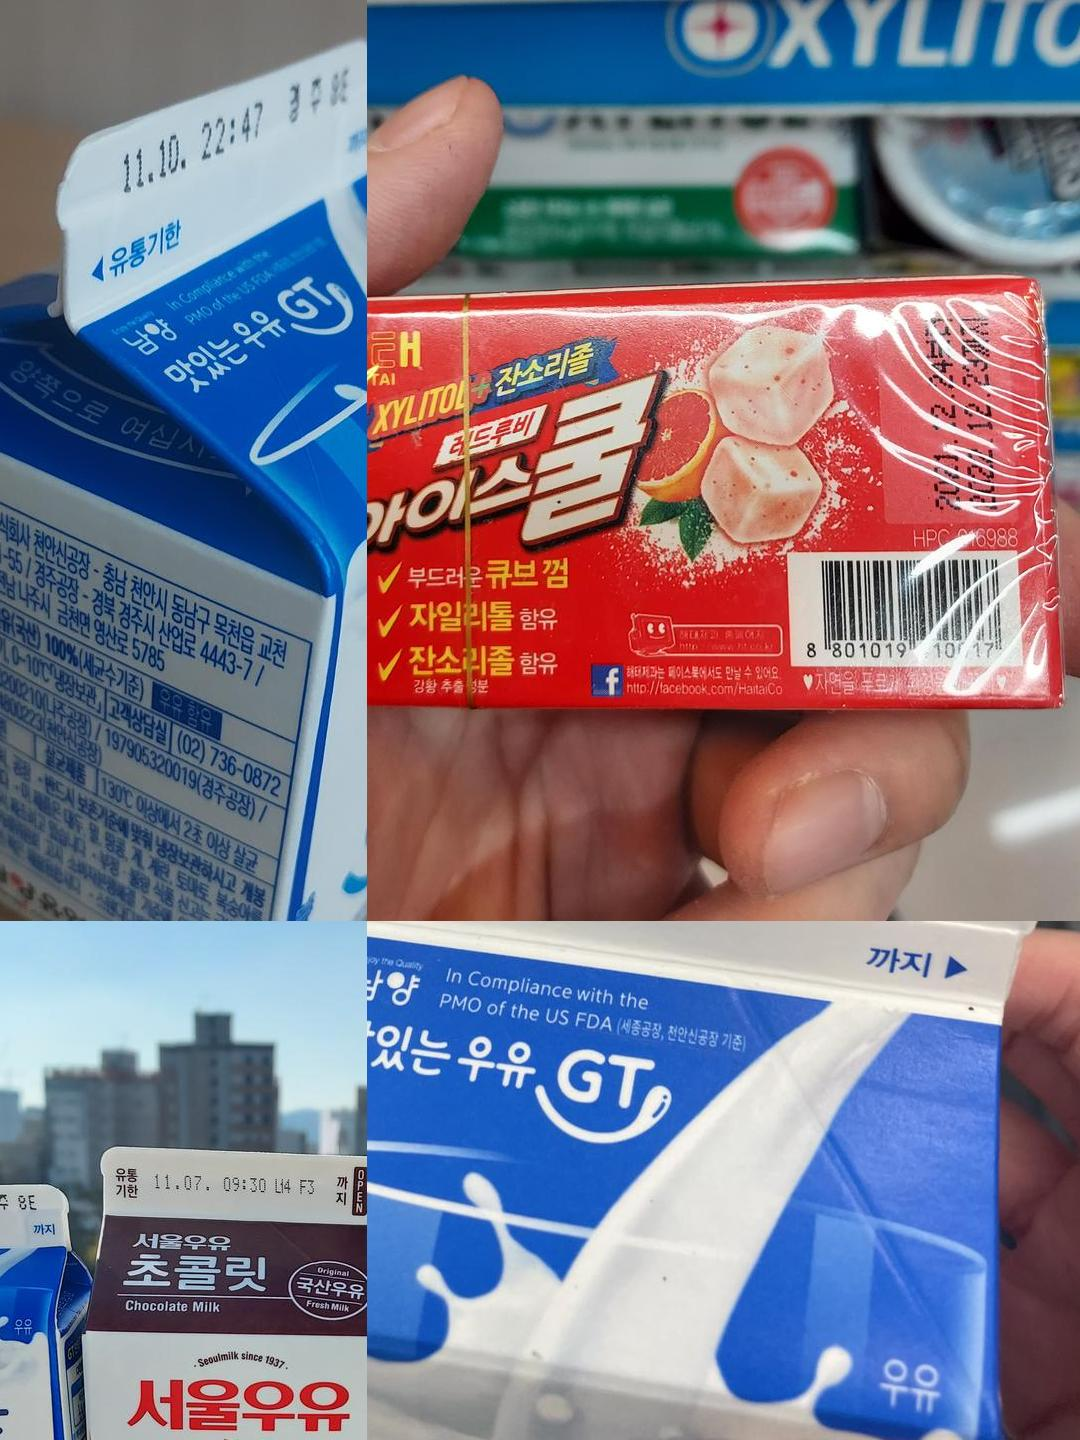gum: (881, 306, 1009, 515)
milk: (56, 31, 368, 319), (368, 921, 1021, 1042), (103, 1142, 368, 1219), (0, 1183, 123, 1248)
